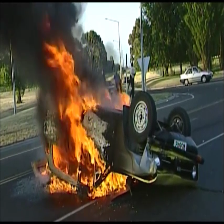fire_h: (45, 42, 110, 189), (87, 172, 127, 198), (49, 176, 77, 195)
fire_l: (115, 91, 131, 110), (42, 161, 51, 175), (104, 88, 112, 100)
